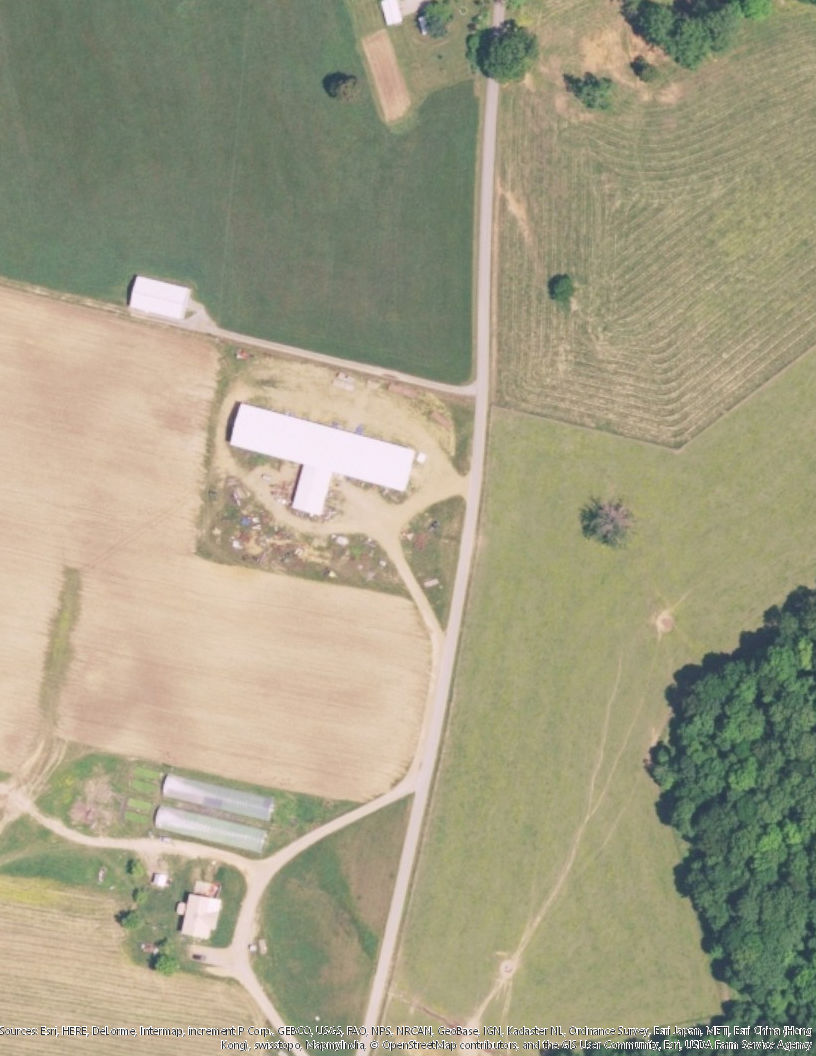cafo: (209, 399, 433, 526)
